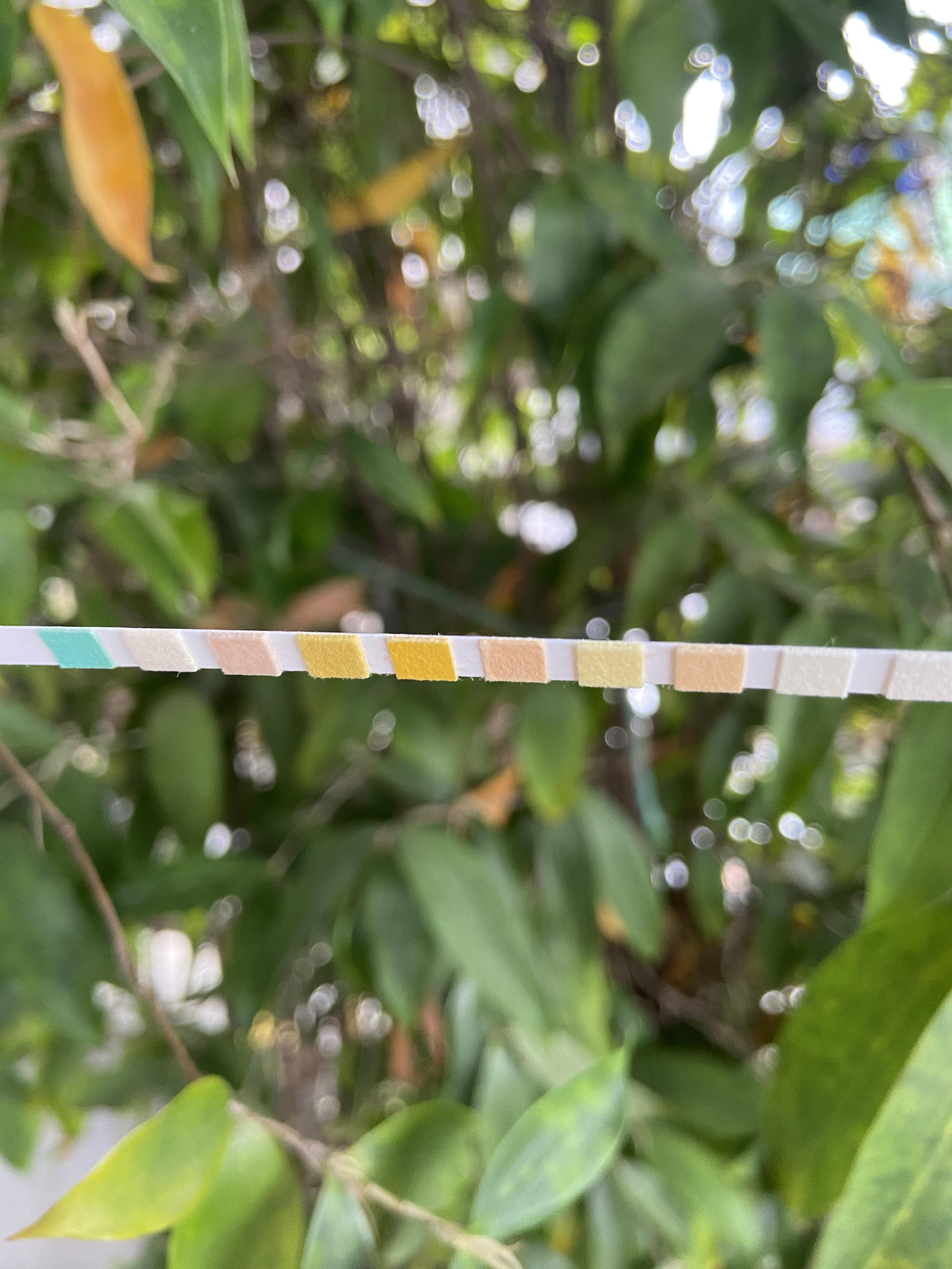Bilirubin: (138, 636, 178, 665)
Blood: (401, 645, 443, 675)
Glucose: (59, 637, 92, 662)
Ketone: (224, 642, 263, 670)
Leukocytes: (905, 661, 952, 695)
Nitrite: (795, 658, 839, 692)
Protein: (587, 648, 634, 681)
SpGravity: (313, 645, 355, 673)
Urobilinogen: (685, 654, 735, 686)
pH: (491, 645, 537, 678)
strip: (0, 630, 952, 700)
